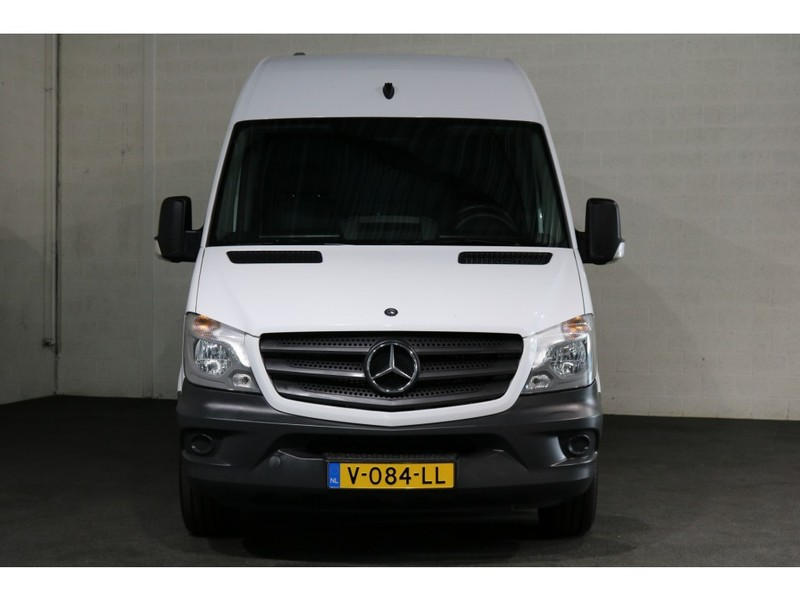kenteken: (327, 461, 456, 489)
